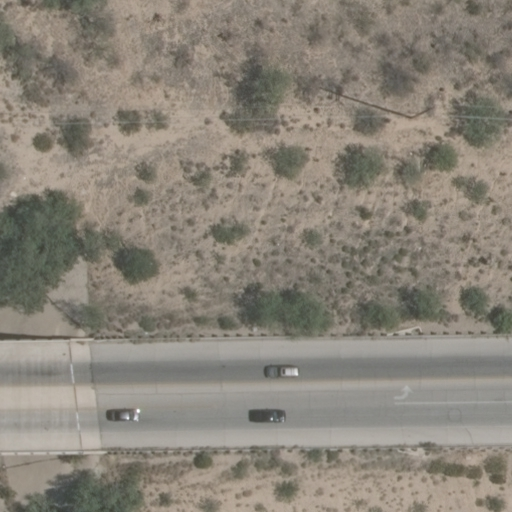DT: (406, 99, 441, 126)
